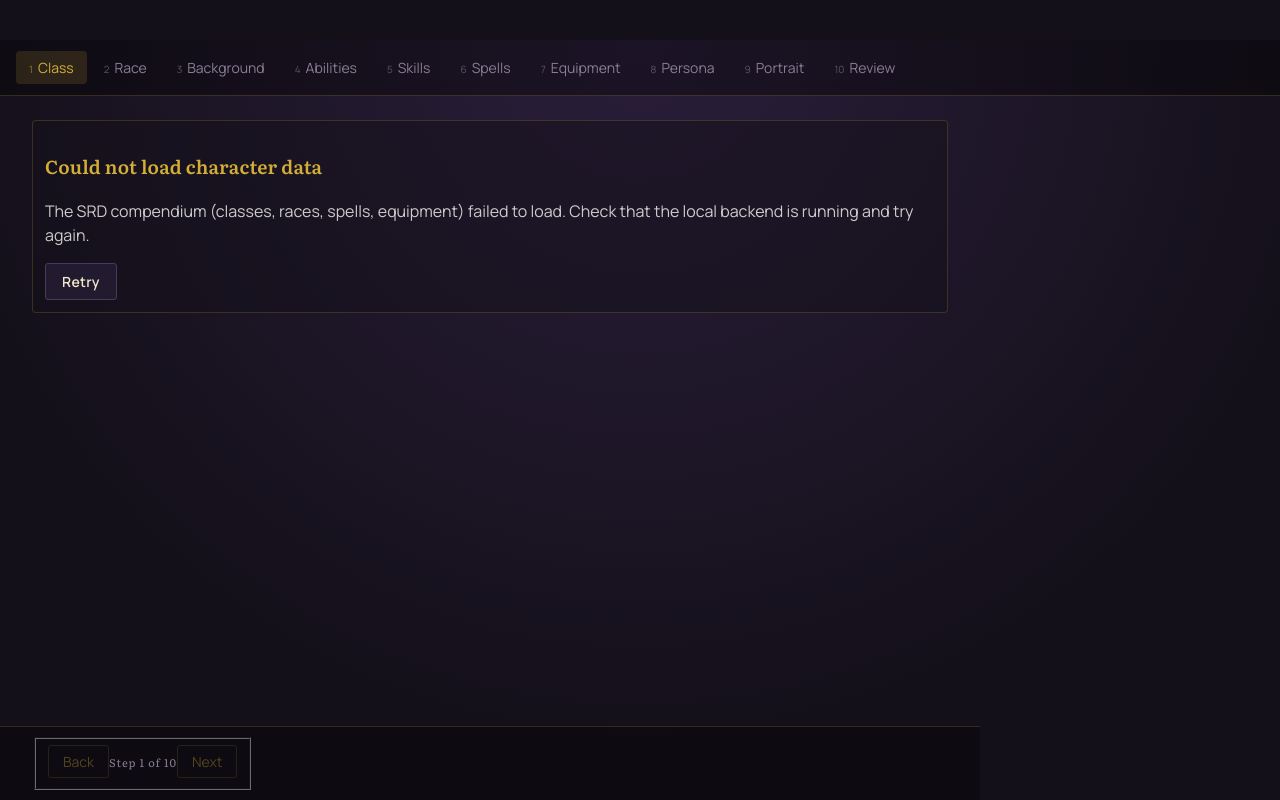
Test: CharacterWizard compendium load failure (E5) › shows an error + retry when the compendium fetch fails, then recovers on retry
Expected: the message is shown, [32, 120, 948, 312]
Click the button "Retry".
click(81, 281)  # box [45, 262, 117, 300]
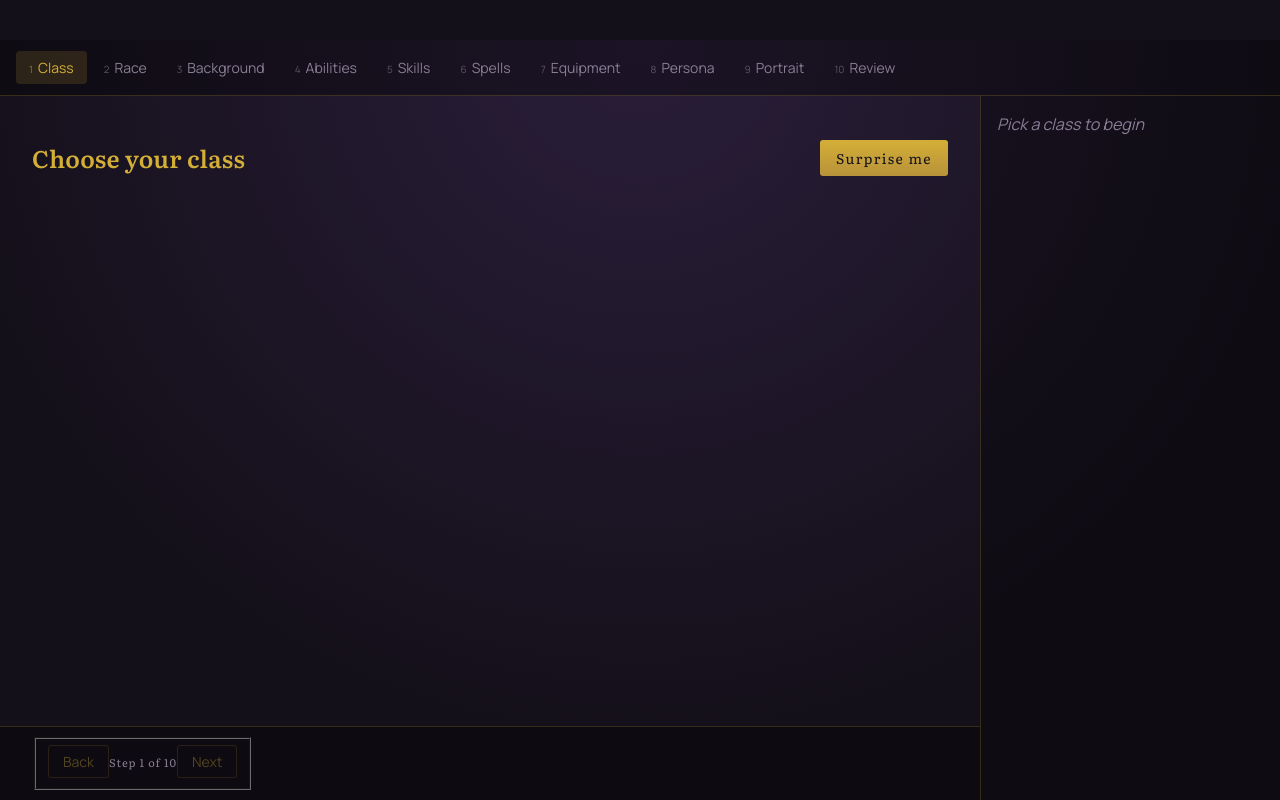
Now the text "Pick a class to begin" is shown, box [997, 113, 1144, 135]
Now the message is gone
